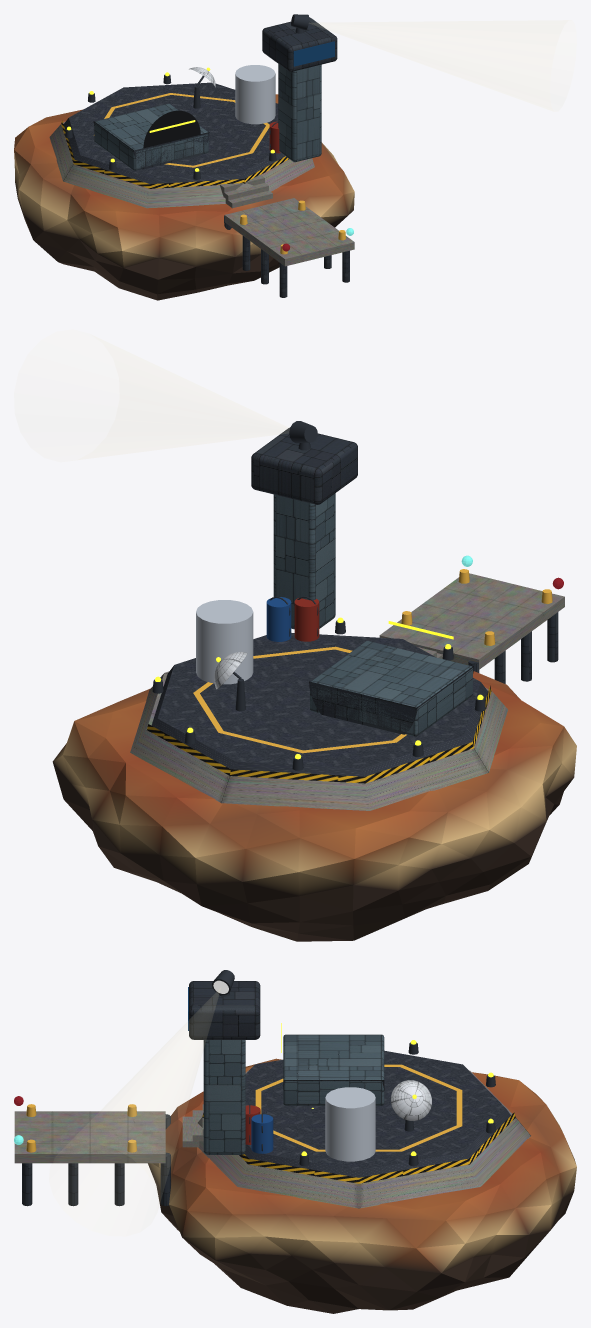
The model's file is garrison-L25.glb.
3 views of the same model, one above another, from view 1: azimuth 30°, elevation 25°; view 2: azimuth 150°, elevation 25°; view 3: azimuth 270°, elevation 25° (orthographic). The views are drawn at different scales.
Parts seen in each view (by area): view 1: object 1, object 4, object 25, object 2, object 49, object 38, object 48, object 50, object 40, object 3, object 39, object 5 (+3 smaller); view 2: object 1, object 4, object 2, object 38, object 25, object 49, object 50, object 48, object 39, object 3, object 5, object 45 (+1 smaller); view 3: object 1, object 4, object 2, object 25, object 38, object 49, object 50, object 48, object 3, anim:rot, object 5, object 45 (+4 smaller).
Part boxes in pixels (x1=…): object 1: x1=14, y1=94, x2=354, y2=300; object 4: x1=63, y1=82, x2=285, y2=184; object 25: x1=224, y1=198, x2=354, y2=266; object 2: x1=49, y1=121, x2=314, y2=208; object 49: x1=278, y1=64, x2=321, y2=162; object 38: x1=94, y1=103, x2=208, y2=170; object 48: x1=235, y1=65, x2=275, y2=124; object 50: x1=262, y1=17, x2=337, y2=71; object 40: x1=143, y1=110, x2=200, y2=148; object 3: x1=61, y1=120, x2=288, y2=188; object 39: x1=93, y1=121, x2=209, y2=169; object 5: x1=94, y1=93, x2=269, y2=167; object 1: x1=52, y1=671, x2=576, y2=941; object 4: x1=151, y1=633, x2=487, y2=776; object 2: x1=130, y1=671, x2=507, y2=810; object 38: x1=310, y1=641, x2=472, y2=736; object 25: x1=379, y1=573, x2=564, y2=669; object 49: x1=273, y1=493, x2=335, y2=629; object 50: x1=251, y1=427, x2=357, y2=504; object 48: x1=196, y1=600, x2=253, y2=684; object 39: x1=309, y1=666, x2=473, y2=734; object 3: x1=147, y1=685, x2=491, y2=783; object 5: x1=193, y1=646, x2=406, y2=753; object 45: x1=266, y1=597, x2=291, y2=641; object 1: x1=148, y1=1058, x2=576, y2=1313; object 4: x1=244, y1=1050, x2=510, y2=1177; object 2: x1=197, y1=1070, x2=530, y2=1208; object 25: x1=14, y1=1111, x2=165, y2=1163; object 38: x1=283, y1=1034, x2=384, y2=1105; object 49: x1=203, y1=1040, x2=245, y2=1154; object 50: x1=189, y1=981, x2=260, y2=1039; object 48: x1=325, y1=1087, x2=375, y2=1161; object 3: x1=202, y1=1112, x2=515, y2=1183; anim:rot: x1=390, y1=1080, x2=431, y2=1120; object 5: x1=255, y1=1064, x2=462, y2=1151; object 45: x1=251, y1=1114, x2=273, y2=1153.
Bounding box in the file's own units: 7.66 × 4.47 × 6.7.
Materials: 22 (7 with a texture image).
